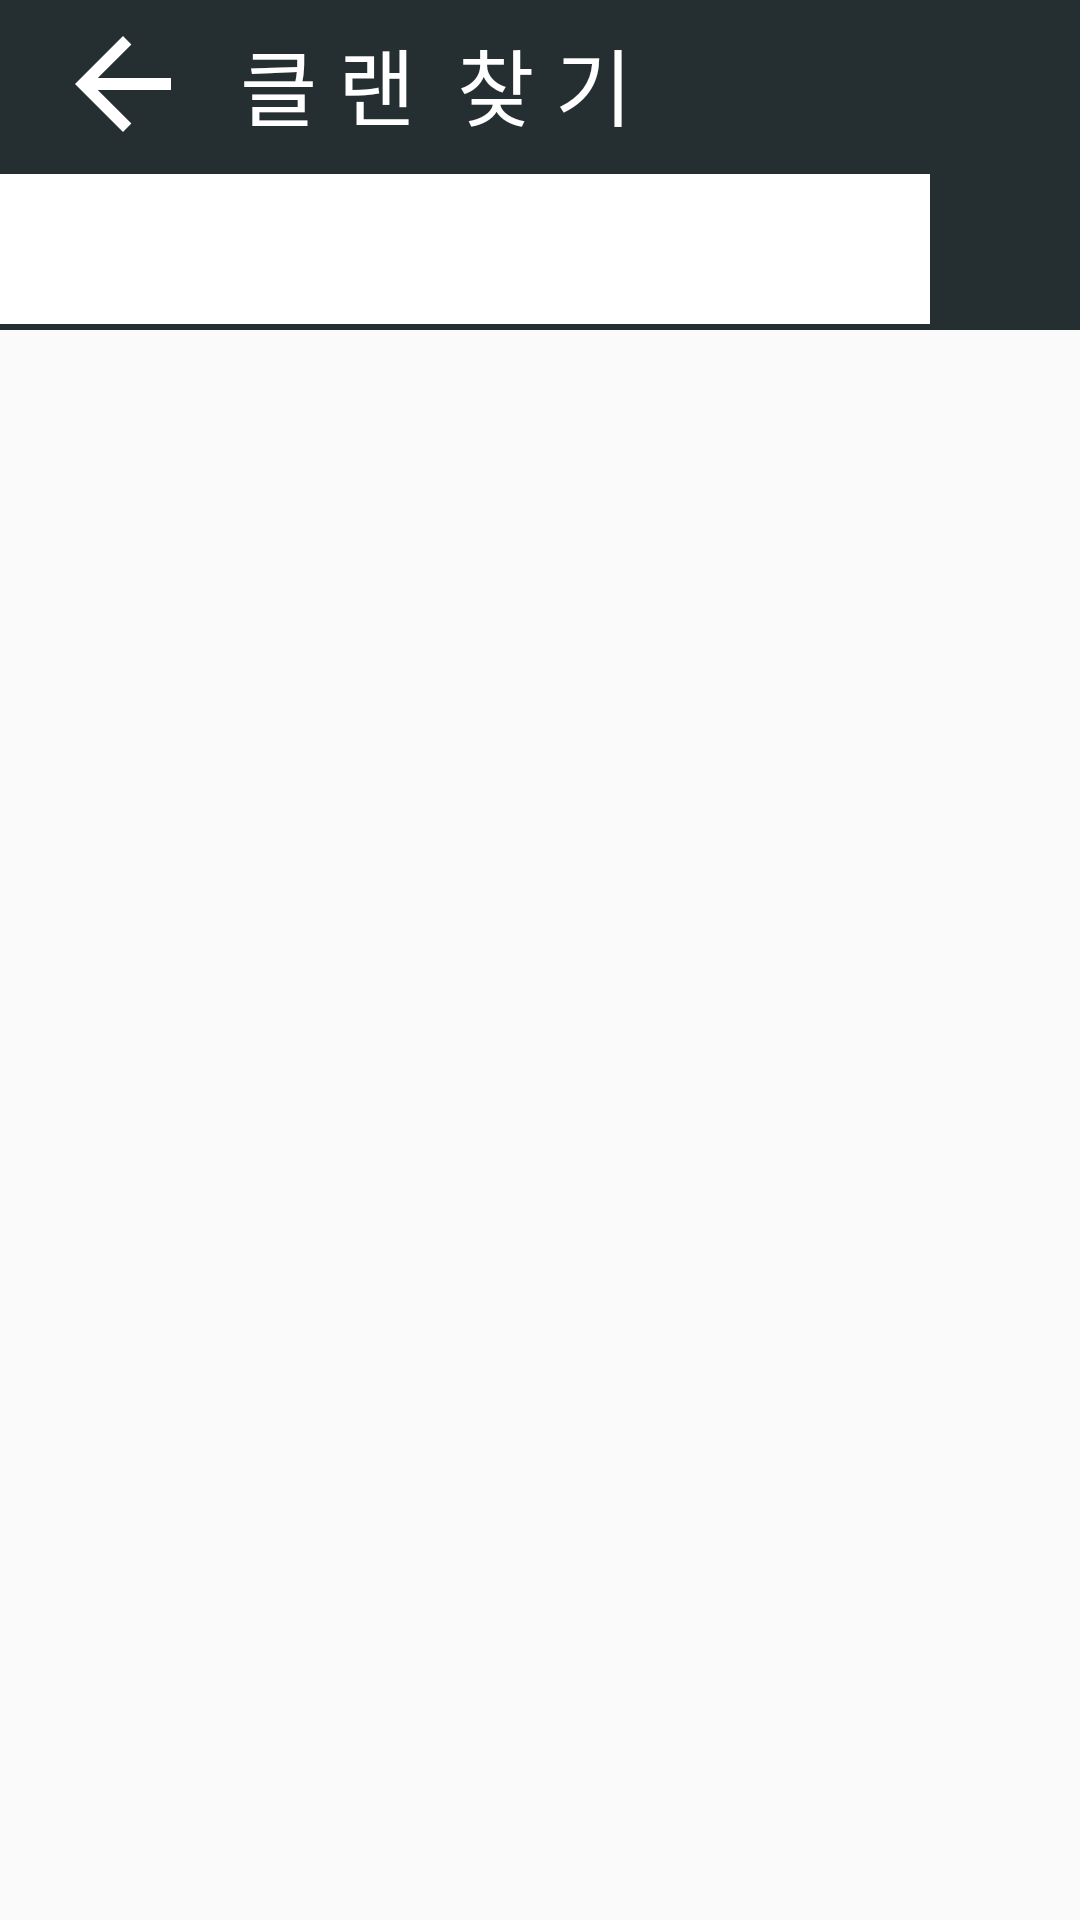

Where to tap for icons on this 1080px x 1920px app screen, as (x=x, y=y):
back toolbar: (x=123, y=84)
